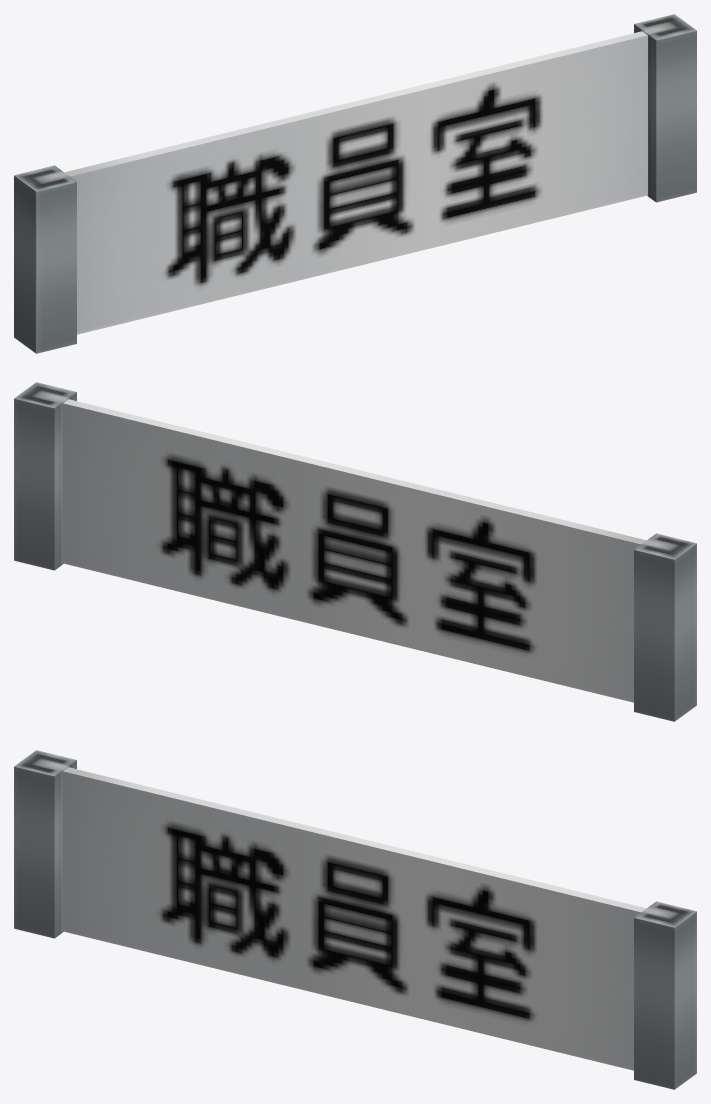
File: SHW_NamePlate_01_00_Teachers_room02.fbx
The picture shows the model from 3 angles, top to bottom: view 1: azimuth 30°, elevation 25°; view 2: azimuth 150°, elevation 25°; view 3: azimuth 330°, elevation 25°; orthographic projection.
Parts seen in each view (by area): view 1: shw_nameplate_01_00_teachers_room02; view 2: shw_nameplate_01_00_teachers_room02; view 3: shw_nameplate_01_00_teachers_room02.
Boxes of the visible parts, x1,y1,x2,y2 form: shw_nameplate_01_00_teachers_room02: (14,14,696,353); shw_nameplate_01_00_teachers_room02: (14,382,696,721); shw_nameplate_01_00_teachers_room02: (14,750,696,1089).
Bounding box in the file's own units: 34.1 × 8 × 2.
